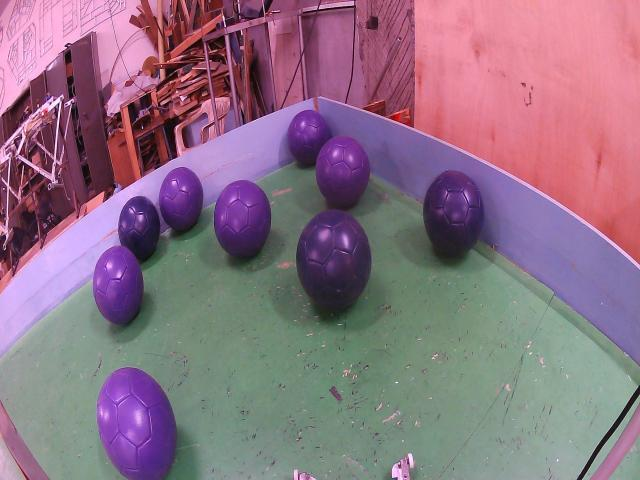jambhalya: (98, 367, 178, 480), (214, 180, 271, 257), (92, 245, 144, 324), (316, 135, 370, 208), (159, 167, 204, 232), (288, 110, 329, 165)
kaalyya: (296, 210, 371, 310), (424, 170, 484, 257), (119, 197, 160, 260)
